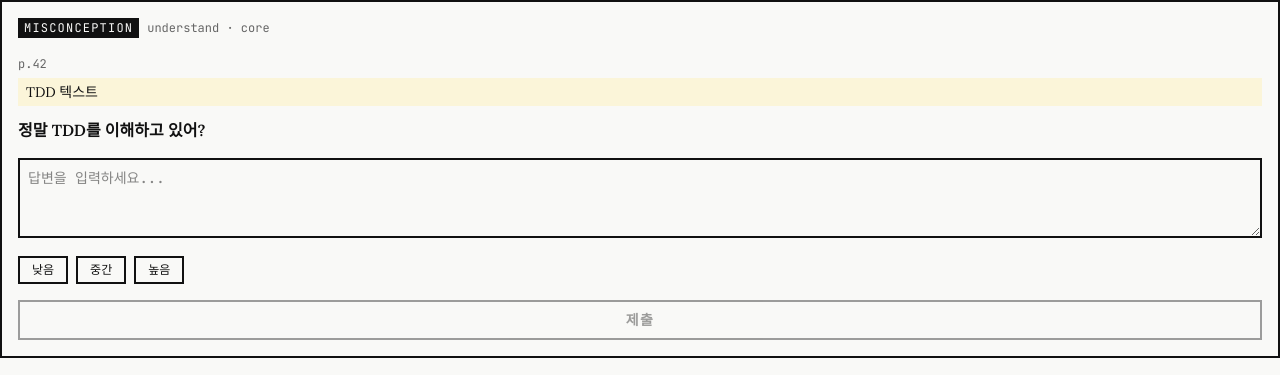
Test: ProvocationCard › 답변 + 확신도 있으면 [제출] enabled
The width and height of the screenshot is (1280, 375).
In the text box with placeholder "답변을 입력하세요...": (640, 198) [18,158,1262,238], type "내 답변"
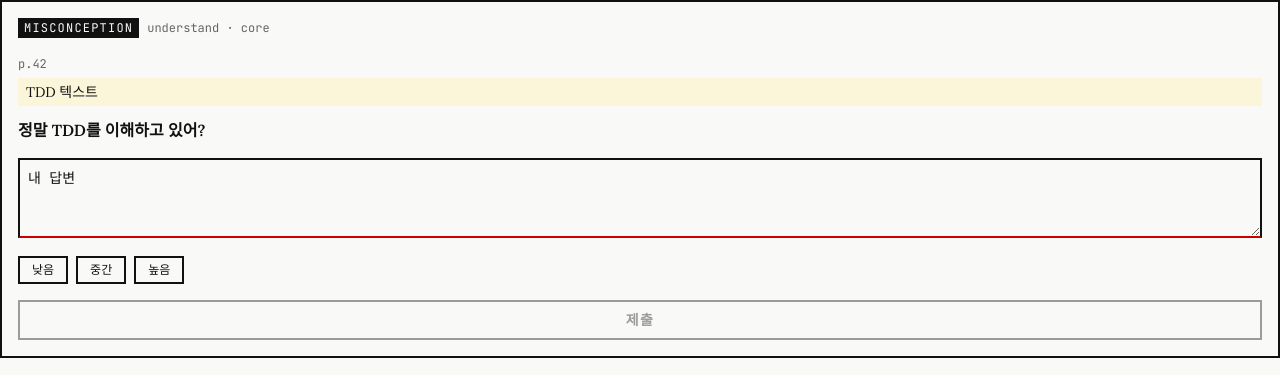
Click the button "높음": (159, 270) [134,256,184,284]
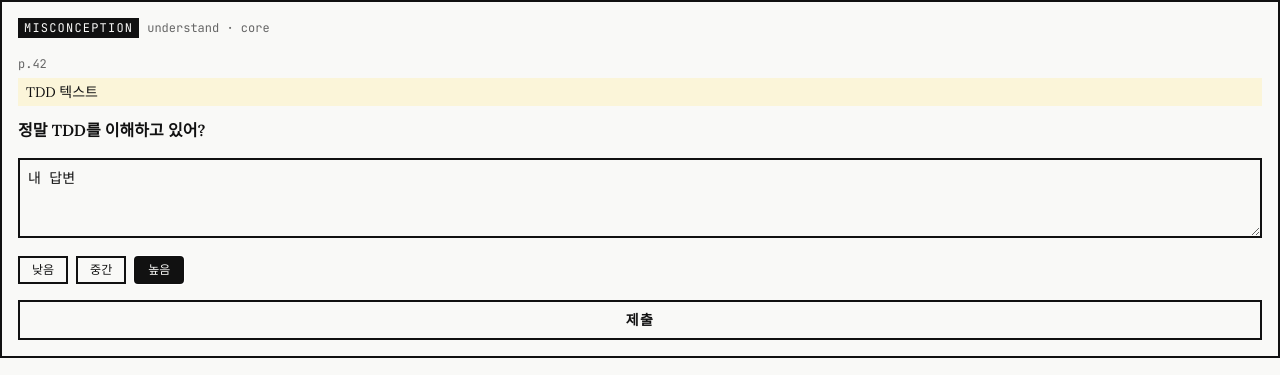
Check: the button "제출" is enabled, box [18,300,1262,340]
